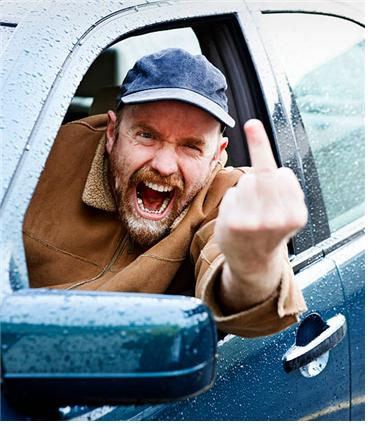insulting_gesture: (215, 114, 310, 281)
